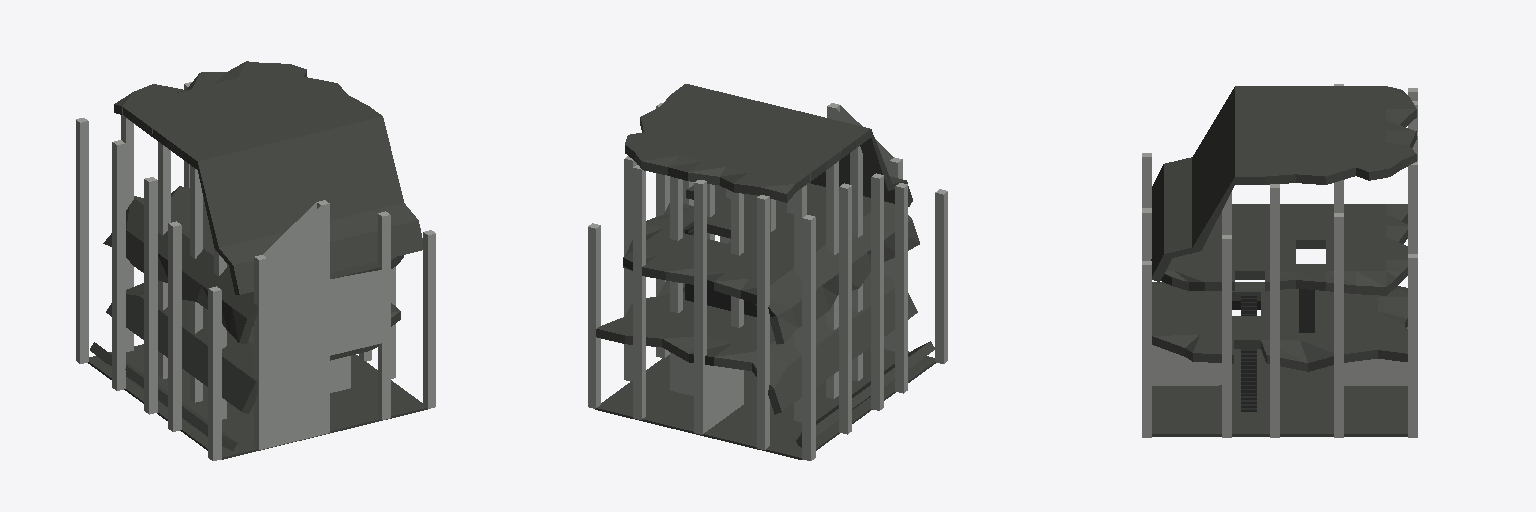
File: RuinedBuilding.obj
The picture shows the model from 3 angles: view 1: azimuth 30°, elevation 25°; view 2: azimuth 150°, elevation 25°; view 3: azimuth 270°, elevation 25°; orthographic projection.
Parts seen in each view (by area): view 1: Cube.013, Cube.004_Cube.030, Cube_Cube.026, Cube.003_Cube.029, Cube.001_Cube.027, Cube.002_Cube.000; view 2: Cube.013, Cube.004_Cube.030, Cube.003_Cube.029, Cube.001_Cube.027, Cube_Cube.026, Cube.002_Cube.000, Stairs.001_Stairs.007, Cube.005_Cube.001; view 3: Cube.004_Cube.030, Cube.013, Cube.003_Cube.029, Cube.001_Cube.027, Cube_Cube.026, Stairs_Stairs.006, Stairs.001_Stairs.007.
Part boxes in pixels (bbox=[...]): Cube.013: bbox=[76, 82, 435, 460]; Cube.004_Cube.030: bbox=[114, 61, 423, 395]; Cube_Cube.026: bbox=[88, 344, 427, 459]; Cube.003_Cube.029: bbox=[103, 186, 403, 343]; Cube.001_Cube.027: bbox=[106, 283, 400, 413]; Cube.002_Cube.000: bbox=[90, 342, 237, 450]; Cube.013: bbox=[588, 103, 947, 460]; Cube.004_Cube.030: bbox=[625, 84, 912, 403]; Cube.003_Cube.029: bbox=[623, 183, 919, 344]; Cube.001_Cube.027: bbox=[596, 272, 917, 414]; Cube_Cube.026: bbox=[595, 347, 935, 459]; Cube.002_Cube.000: bbox=[796, 341, 934, 447]; Stairs.001_Stairs.007: bbox=[685, 224, 756, 316]; Cube.005_Cube.001: bbox=[678, 357, 693, 395]; Cube.004_Cube.030: bbox=[1151, 86, 1416, 282]; Cube.013: bbox=[1142, 84, 1417, 437]; Cube.003_Cube.029: bbox=[1161, 204, 1407, 295]; Cube.001_Cube.027: bbox=[1152, 282, 1407, 371]; Cube_Cube.026: bbox=[1152, 349, 1407, 436]; Stairs_Stairs.006: bbox=[1241, 294, 1256, 411]; Stairs.001_Stairs.007: bbox=[1299, 289, 1314, 332].
Size of the model in its own units: 16.1 by 18 by 17.2.